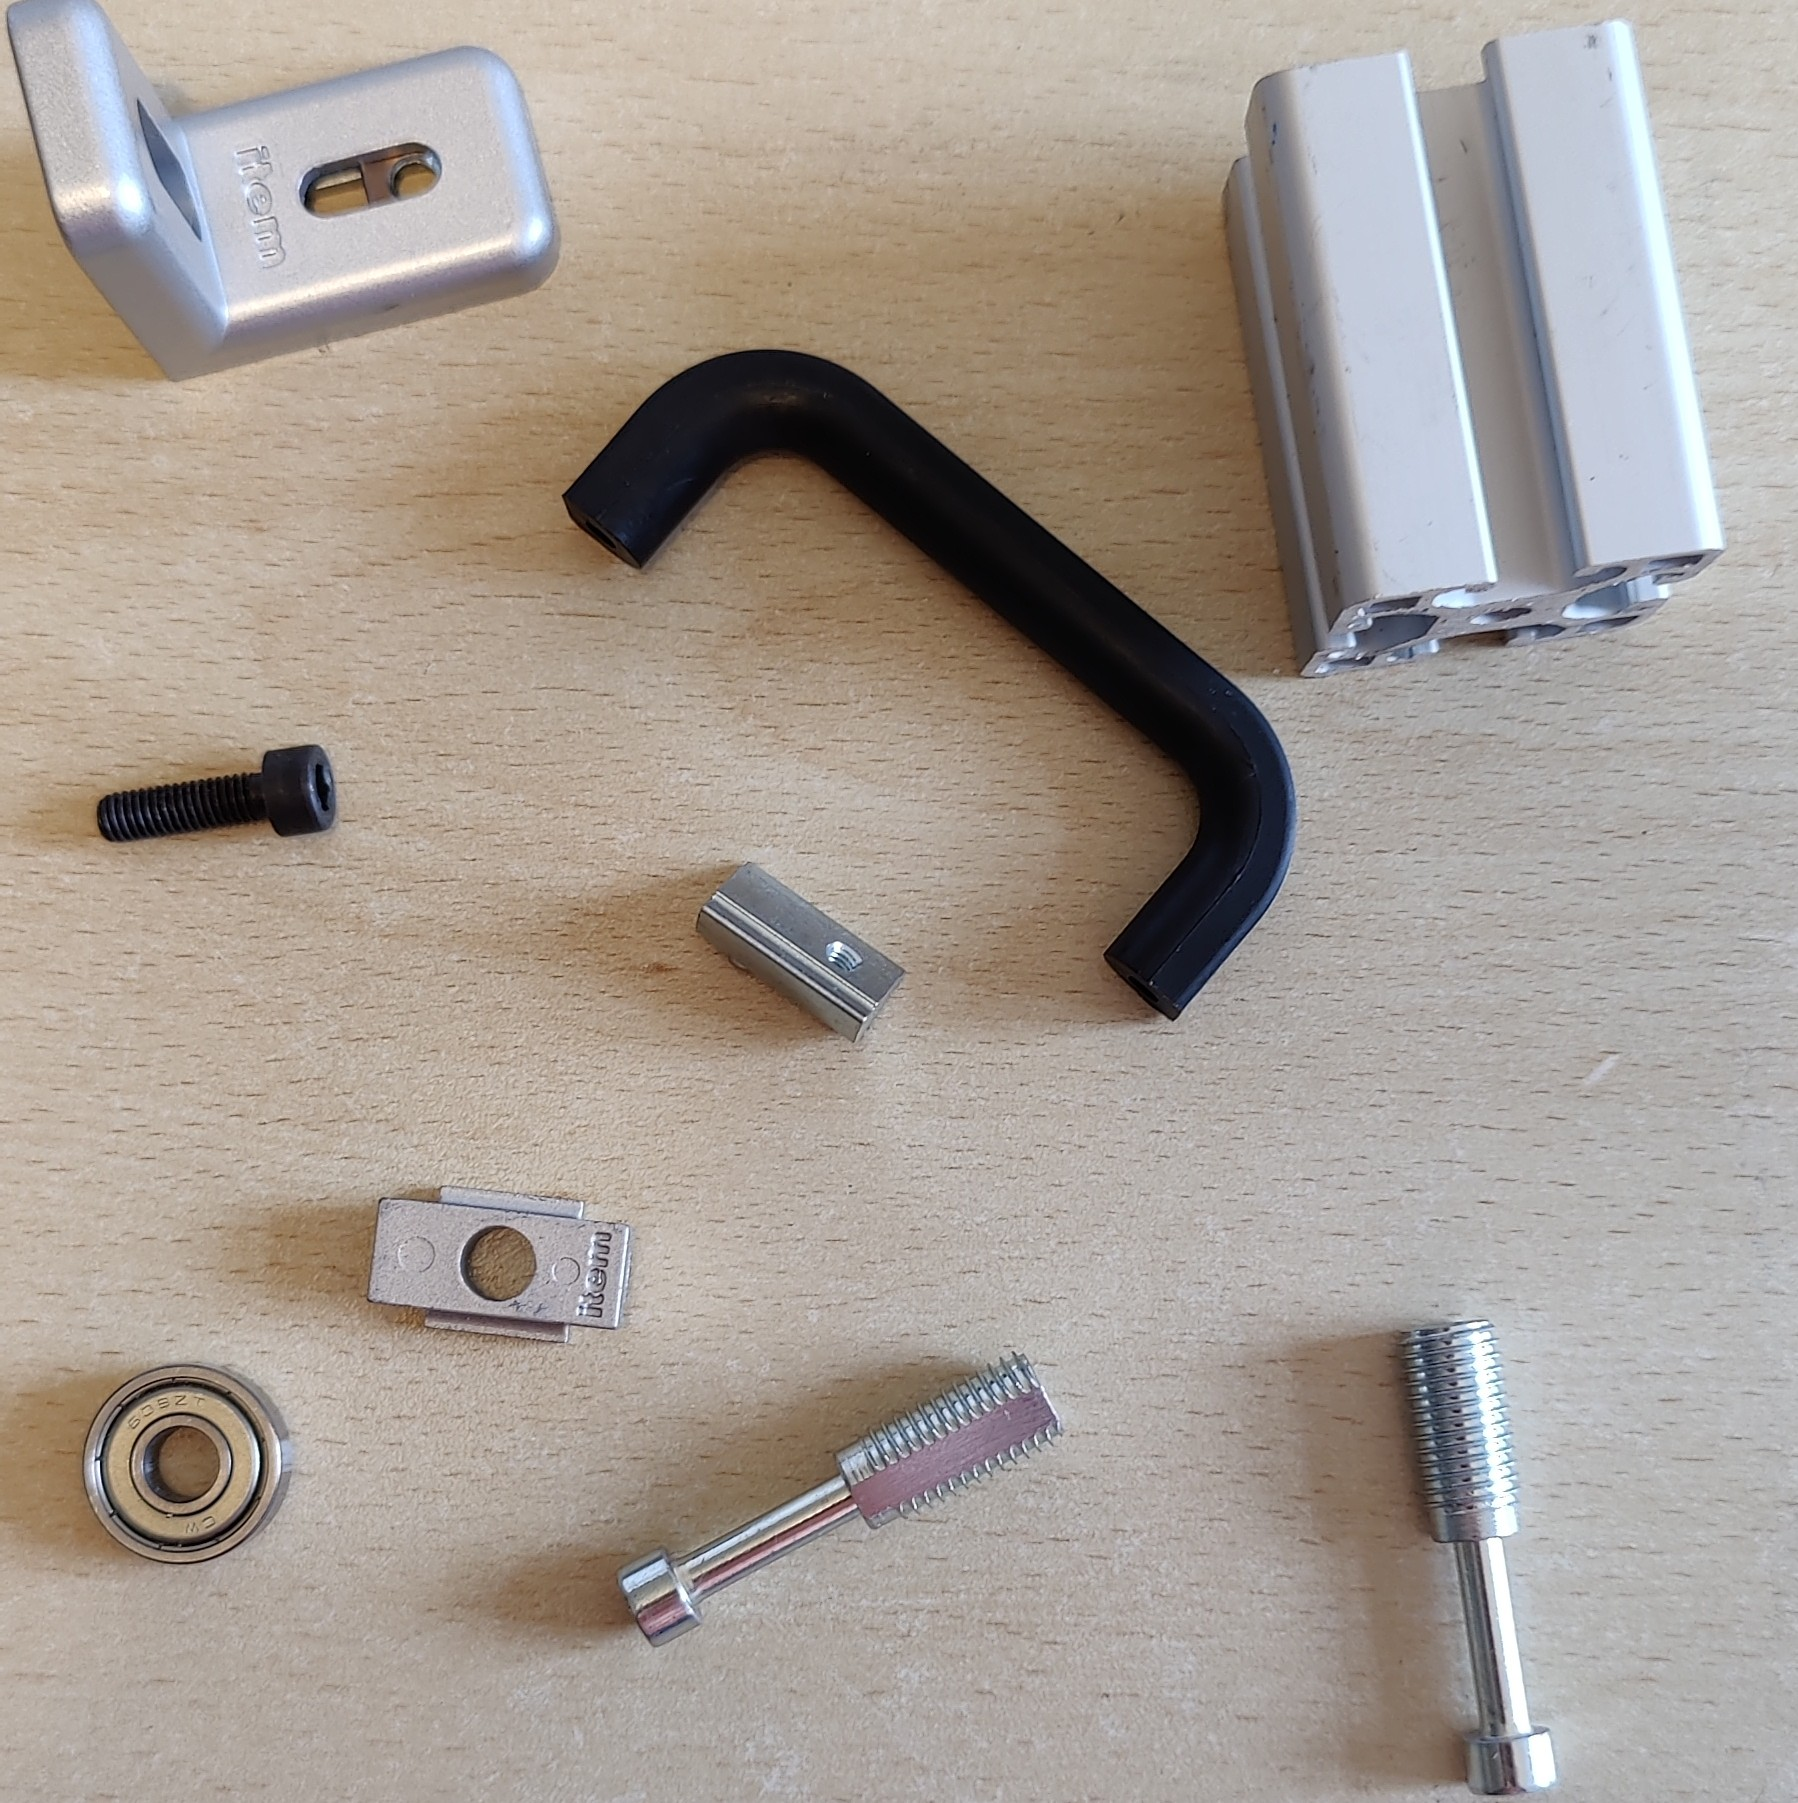Aluminium Extension: (1222, 20, 1726, 682)
Ball Bearing: (81, 1353, 295, 1566)
Multiwinkel: (3, 2, 561, 380)
Pull Handle: (552, 344, 1301, 1026)
Shoulder Socket Head Cap Screw: (613, 1350, 1065, 1648), (1400, 1316, 1561, 1800)
Socket Head Cap Screw: (92, 744, 339, 845)
T Nut Square: (362, 1181, 636, 1345)
T Spring Nut: (692, 855, 911, 1049)
